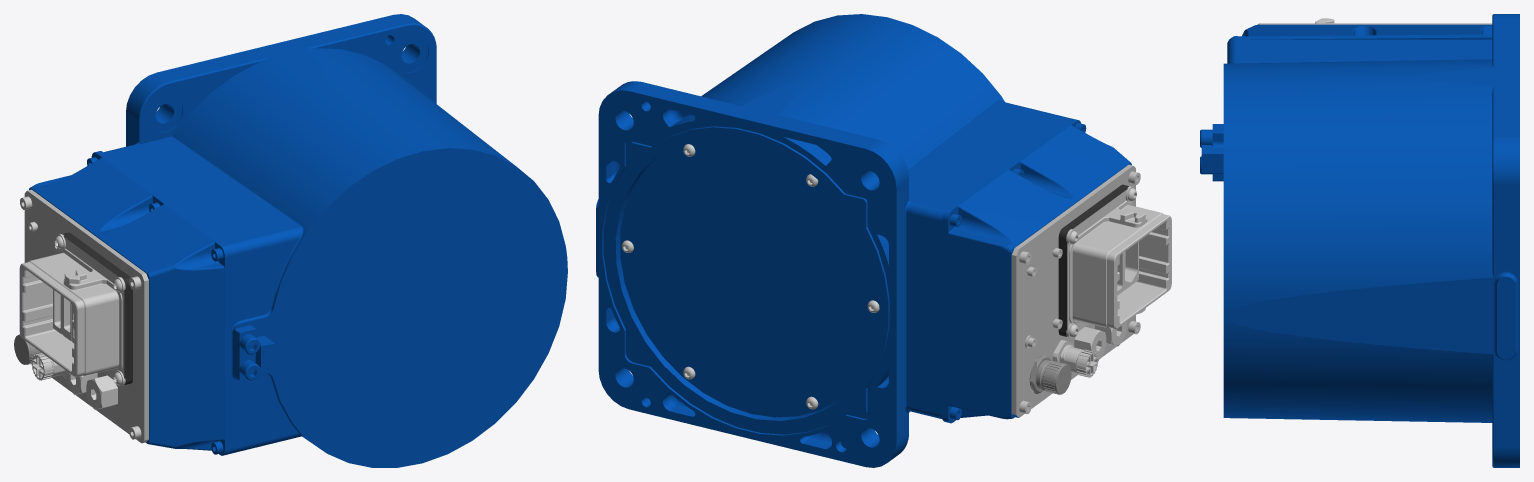
The model's file is nex10_link_0.obj.
The picture shows the model from 3 angles, left to right: view 1: azimuth 30°, elevation 25°; view 2: azimuth 150°, elevation 25°; view 3: azimuth 270°, elevation 25°; orthographic projection. The views are drawn at different scales.
Bounding box in the file's own units: 0.3027 × 0.199 × 0.1748.
